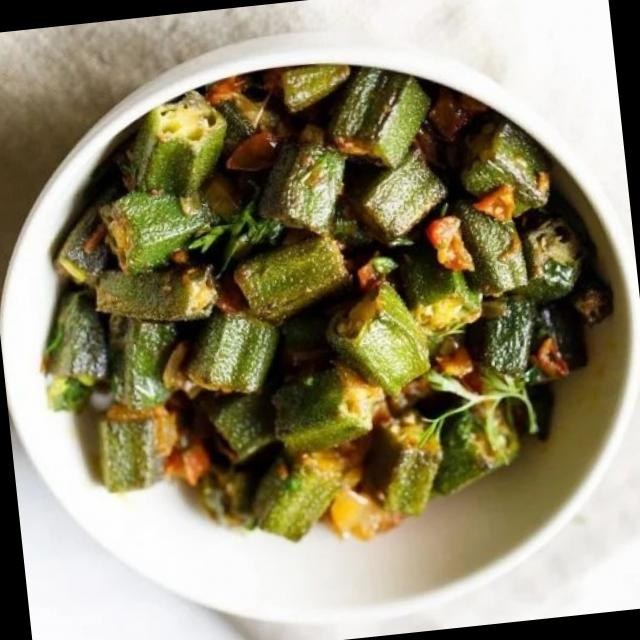BhindiMasala: (13, 34, 637, 573)
